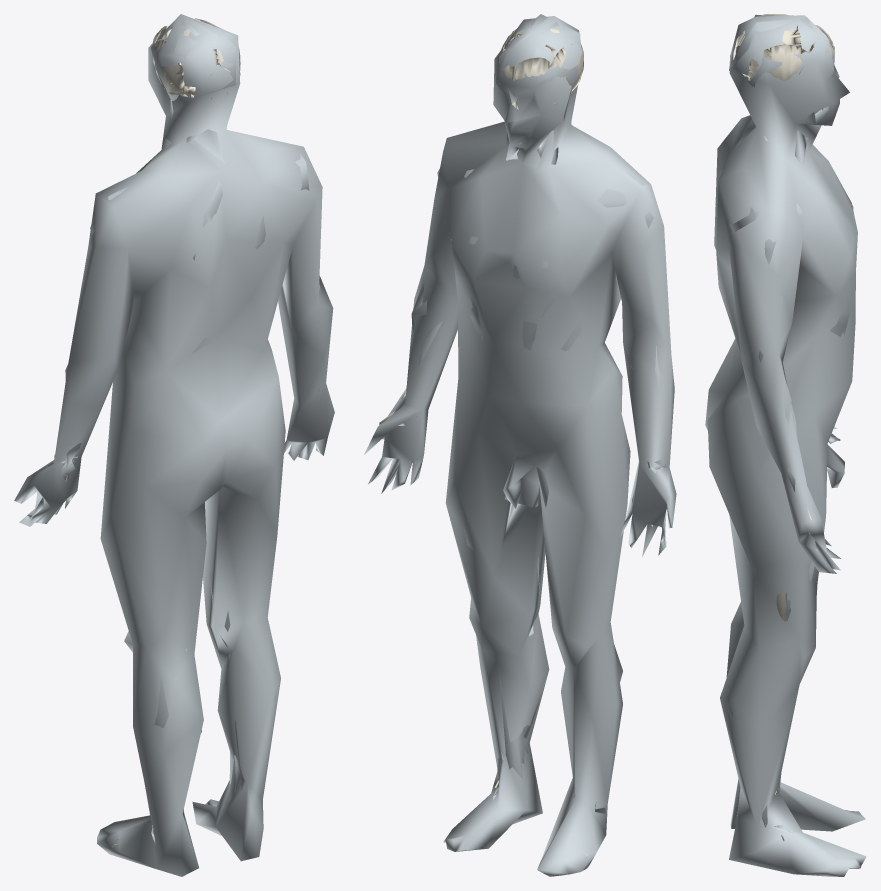
The model's file is ayari_human_anatomy.glb.
The picture shows the model from 3 angles, left to right: view 1: azimuth 30°, elevation 25°; view 2: azimuth 150°, elevation 25°; view 3: azimuth 270°, elevation 25°; orthographic projection.
Visible parts, largest first — view 1: GEO_skin, GEO_skeleton; view 2: GEO_skin, GEO_skeleton; view 3: GEO_skin, GEO_skeleton.
Part boxes in pixels (x1,y1,x2,y2): GEO_skin: (14, 14, 334, 876); GEO_skeleton: (44, 18, 320, 846); GEO_skin: (364, 14, 676, 876); GEO_skeleton: (379, 20, 665, 855); GEO_skin: (705, 14, 866, 876); GEO_skeleton: (730, 14, 839, 841).
Bounding box in the file's own units: 0.6571 × 1.65 × 0.2909.
